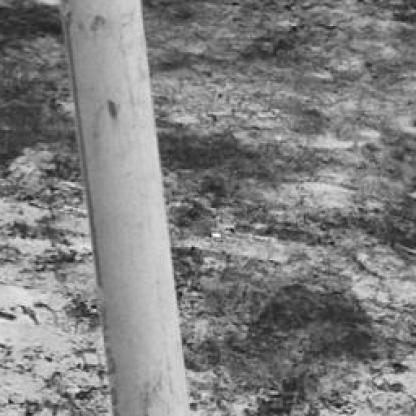PVC: (60, 0, 192, 414)
